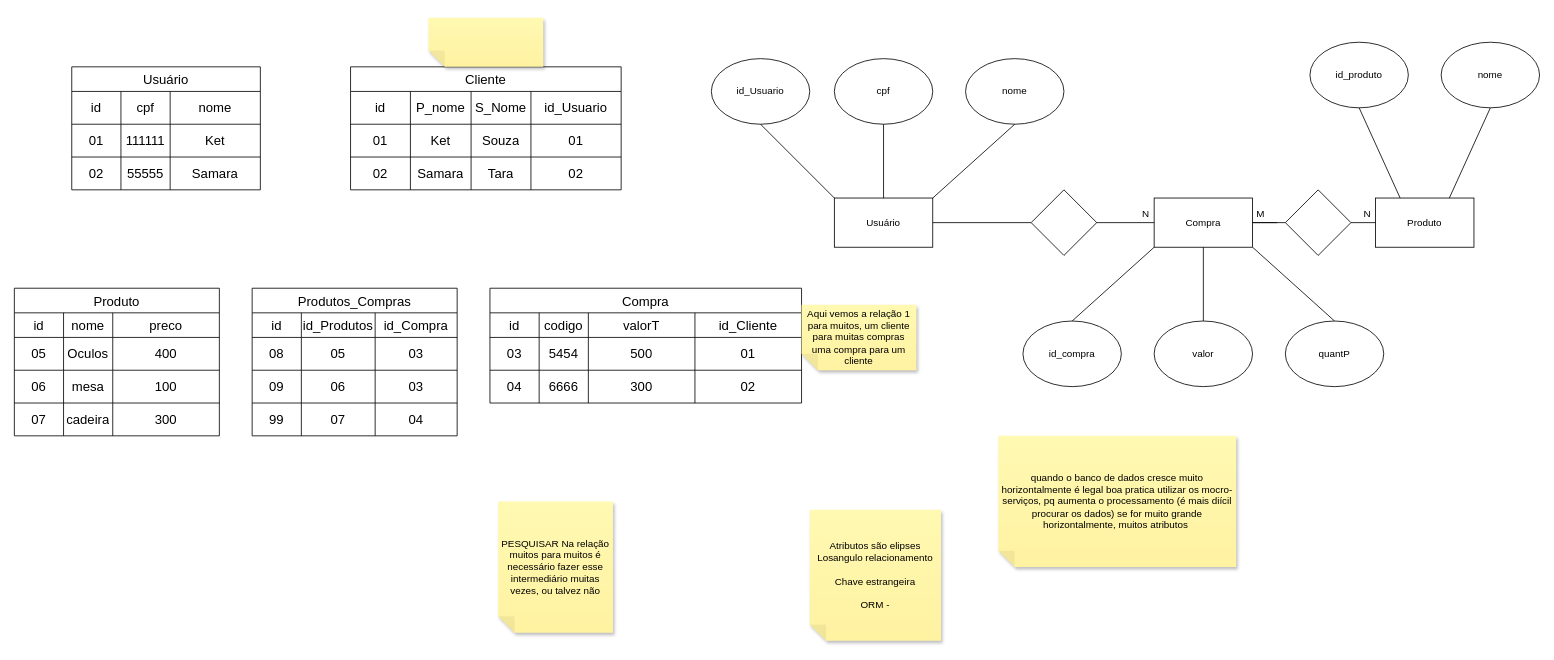
Some shapes in this 1554 by 660 pixel diagram are drawn without their labels. Each missing label, with the centre of its shape:
Aqui vemos a relação 1 para 1: [486,43]
Realiza: [1063,222]
Tem: [1318,222]
